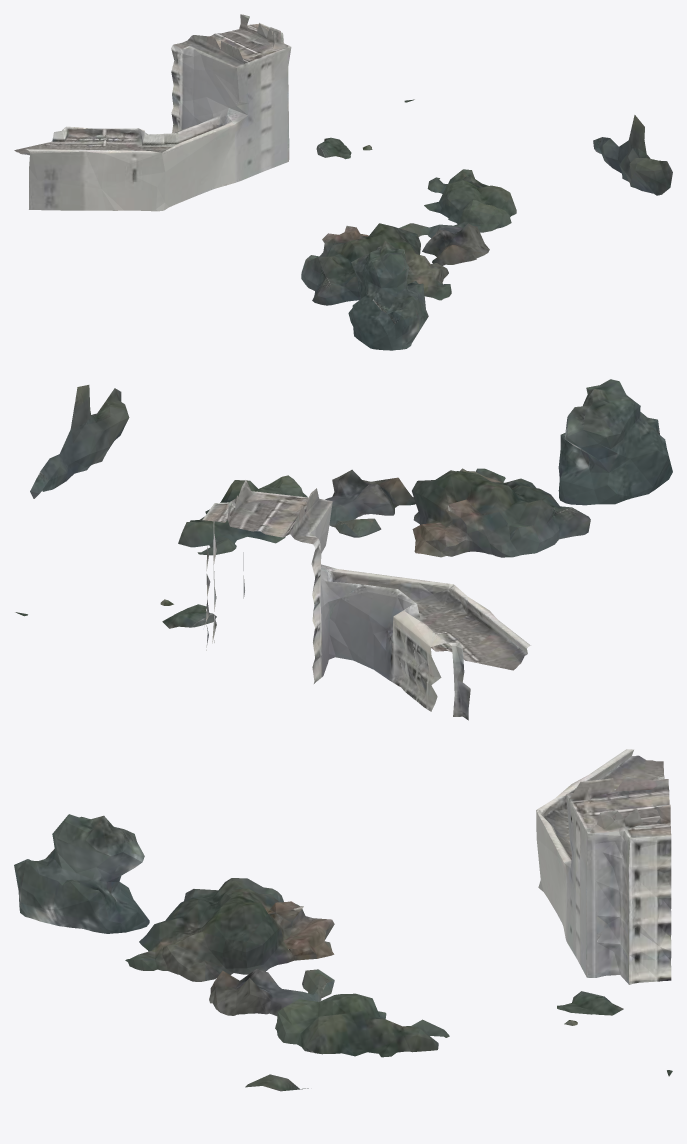
Rendered from Tile_+012_+009_L19_00000370t2.glb.
The picture shows the model from 3 angles, top to bottom: view 1: azimuth 30°, elevation 25°; view 2: azimuth 150°, elevation 25°; view 3: azimuth 270°, elevation 25°; orthographic projection. The views are drawn at different scales.
Parts seen in each view (by area): view 1: rtc; view 2: rtc; view 3: rtc.
Part boxes in pixels (x1=…): rtc: x1=14, y1=14, x2=672, y2=350; rtc: x1=15, y1=379, x2=672, y2=720; rtc: x1=14, y1=749, x2=672, y2=1091.
Size of the model in its own units: 64.2 by 16.06 by 58.51.
Materials: 1 (1 with a texture image).
